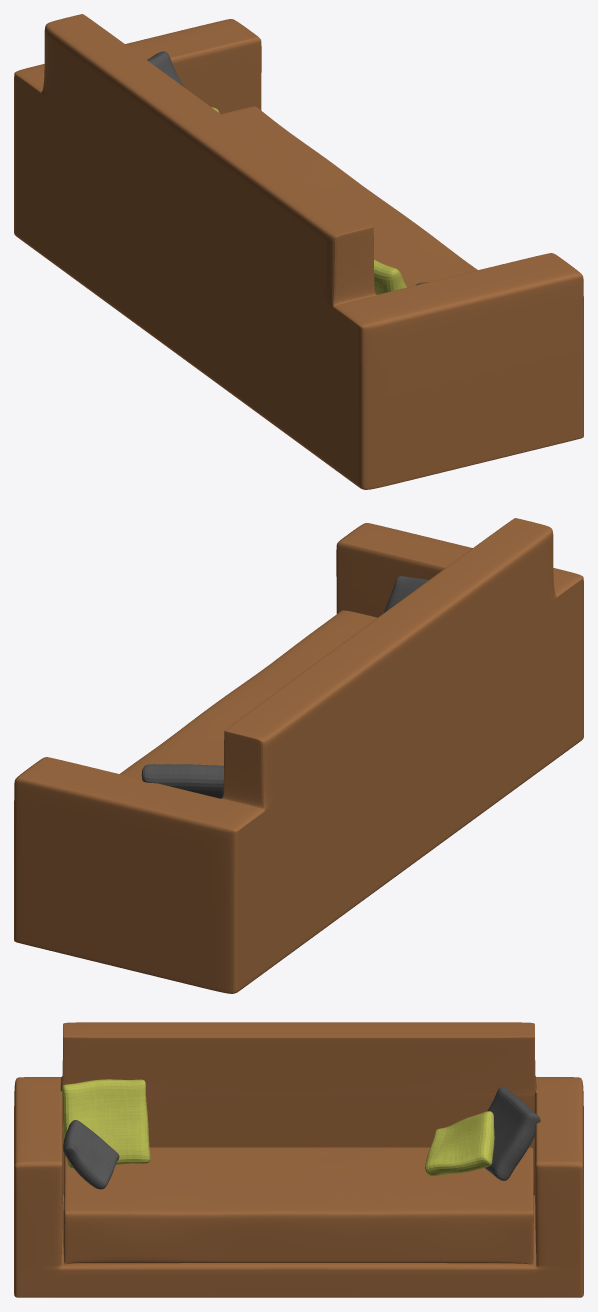
Rendered from sofaGLB.gltf.
The picture shows the model from 3 angles, top to bottom: view 1: azimuth 30°, elevation 25°; view 2: azimuth 150°, elevation 25°; view 3: azimuth 270°, elevation 25°; orthographic projection. The views are drawn at different scales.
Visible parts, largest first — view 1: sofa, Almohadones Sofa; view 2: sofa, Almohadones Sofa; view 3: sofa, Almohadones Sofa.
Part boxes in pixels (<box>): sofa: <box>14,14,583,489</box>; Almohadones Sofa: <box>147,51,427,294</box>; sofa: <box>14,518,583,993</box>; Almohadones Sofa: <box>141,576,428,798</box>; sofa: <box>14,1022,583,1297</box>; Almohadones Sofa: <box>62,1079,540,1189</box>.
Size of the model in its own units: 8.88 by 8.9 by 24.26.
Materials: 2 (2 with a texture image).
